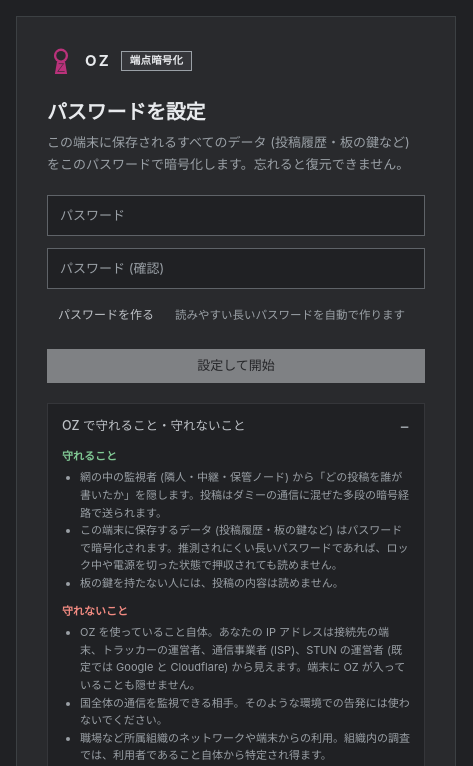
Scenario: Desktop UI Rendering & Workflows (OZ Specification) › Desktop App Whole Integration › 初回設定で「パスワードを作る」を押すと、確認欄にも入り、強さの目安が出る
The width and height of the screenshot is (473, 766).
Expected: the heading "パスワードを設定" is shown, [47,100,205,124]
Click the button "パスワードを作る".
click(106, 315)  # box [47,301,165,329]
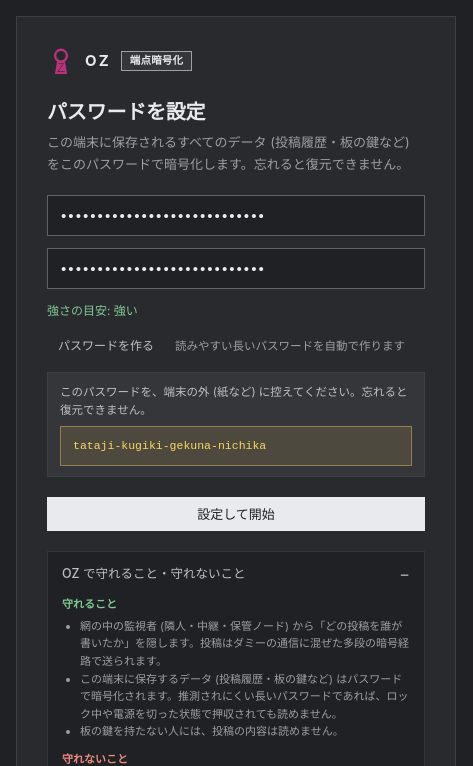
Result: the message shows "強い" at [114,303,138,318]
